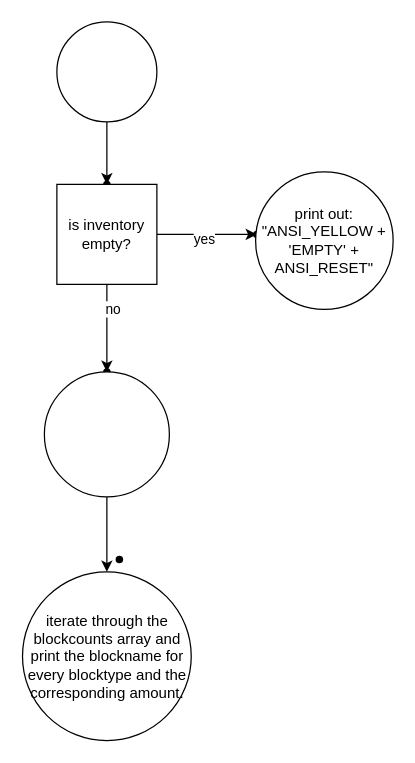
Image size: 415x763. Some labels were removed from this diagram. Each missing label, with the centre of its shape:
create an array that saves blockcounts for every blocktype in the inventory: the point at 106,434
print out : "Inventory:": the point at 106,71
